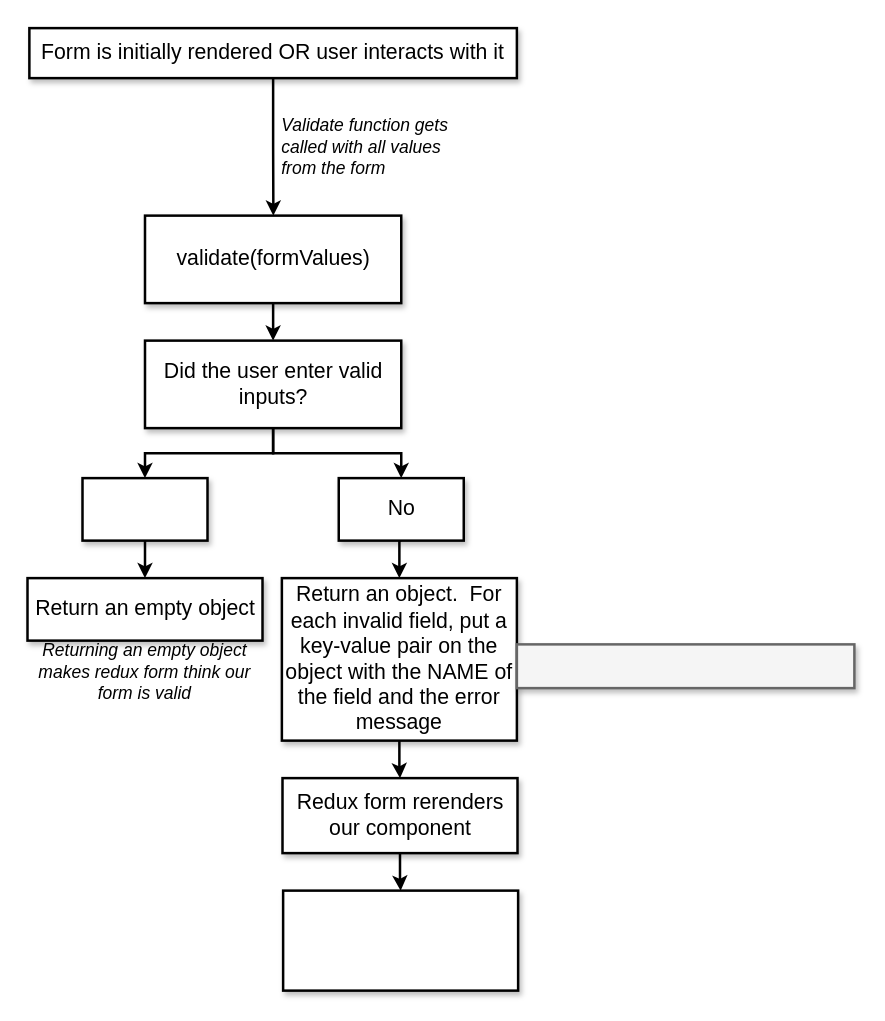
Image size: 885x1021. Some labels were removed from this diagram. Here are the shapes that lost their labels. From the top down, the centre of each, then its label:
point (146, 510): Yes
point (686, 668): errors = { title: 'You must enter a title' }
point (401, 942): Each 'Field' rendered with the error message from the 'errors' object
